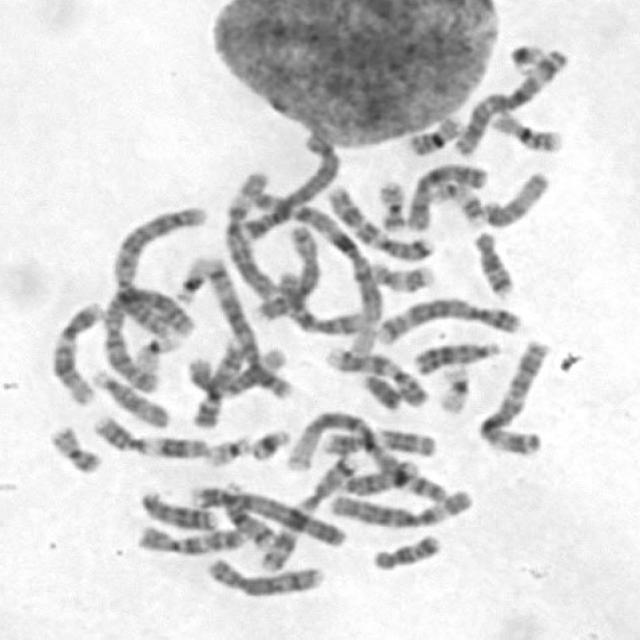A1: (243, 181, 382, 356), (277, 407, 453, 502)
A2: (107, 199, 208, 339), (95, 283, 195, 395)
A3: (446, 40, 572, 158), (474, 336, 553, 456)
B4: (234, 128, 342, 242), (182, 479, 351, 548)
B5: (202, 251, 295, 399), (370, 292, 525, 346)
C10: (272, 265, 368, 337), (131, 520, 250, 557)
C11: (87, 410, 211, 460), (318, 423, 438, 458)
C12: (46, 296, 104, 407), (182, 341, 288, 400)
C6: (219, 170, 279, 301), (324, 483, 478, 531)
C7: (257, 448, 366, 574), (322, 181, 436, 263)
C8: (252, 219, 324, 323), (199, 554, 325, 598)
C9: (321, 343, 432, 408), (186, 333, 248, 431)
D13: (134, 484, 220, 532), (408, 334, 502, 377)
D14: (217, 477, 280, 550), (336, 454, 419, 496)
D15: (86, 362, 172, 429), (476, 164, 553, 230)
E16: (486, 104, 566, 154), (402, 108, 466, 157)
E17: (428, 177, 487, 226), (364, 257, 438, 294)
E18: (468, 224, 518, 298), (366, 528, 445, 571)
F19: (127, 328, 183, 374), (433, 359, 473, 415)
F20: (44, 420, 104, 475), (371, 174, 409, 233)
G21: (245, 422, 292, 462), (504, 37, 548, 75)
G22: (167, 252, 207, 305), (200, 430, 254, 468)
X: (401, 158, 488, 232)
Y: (357, 368, 405, 412)
